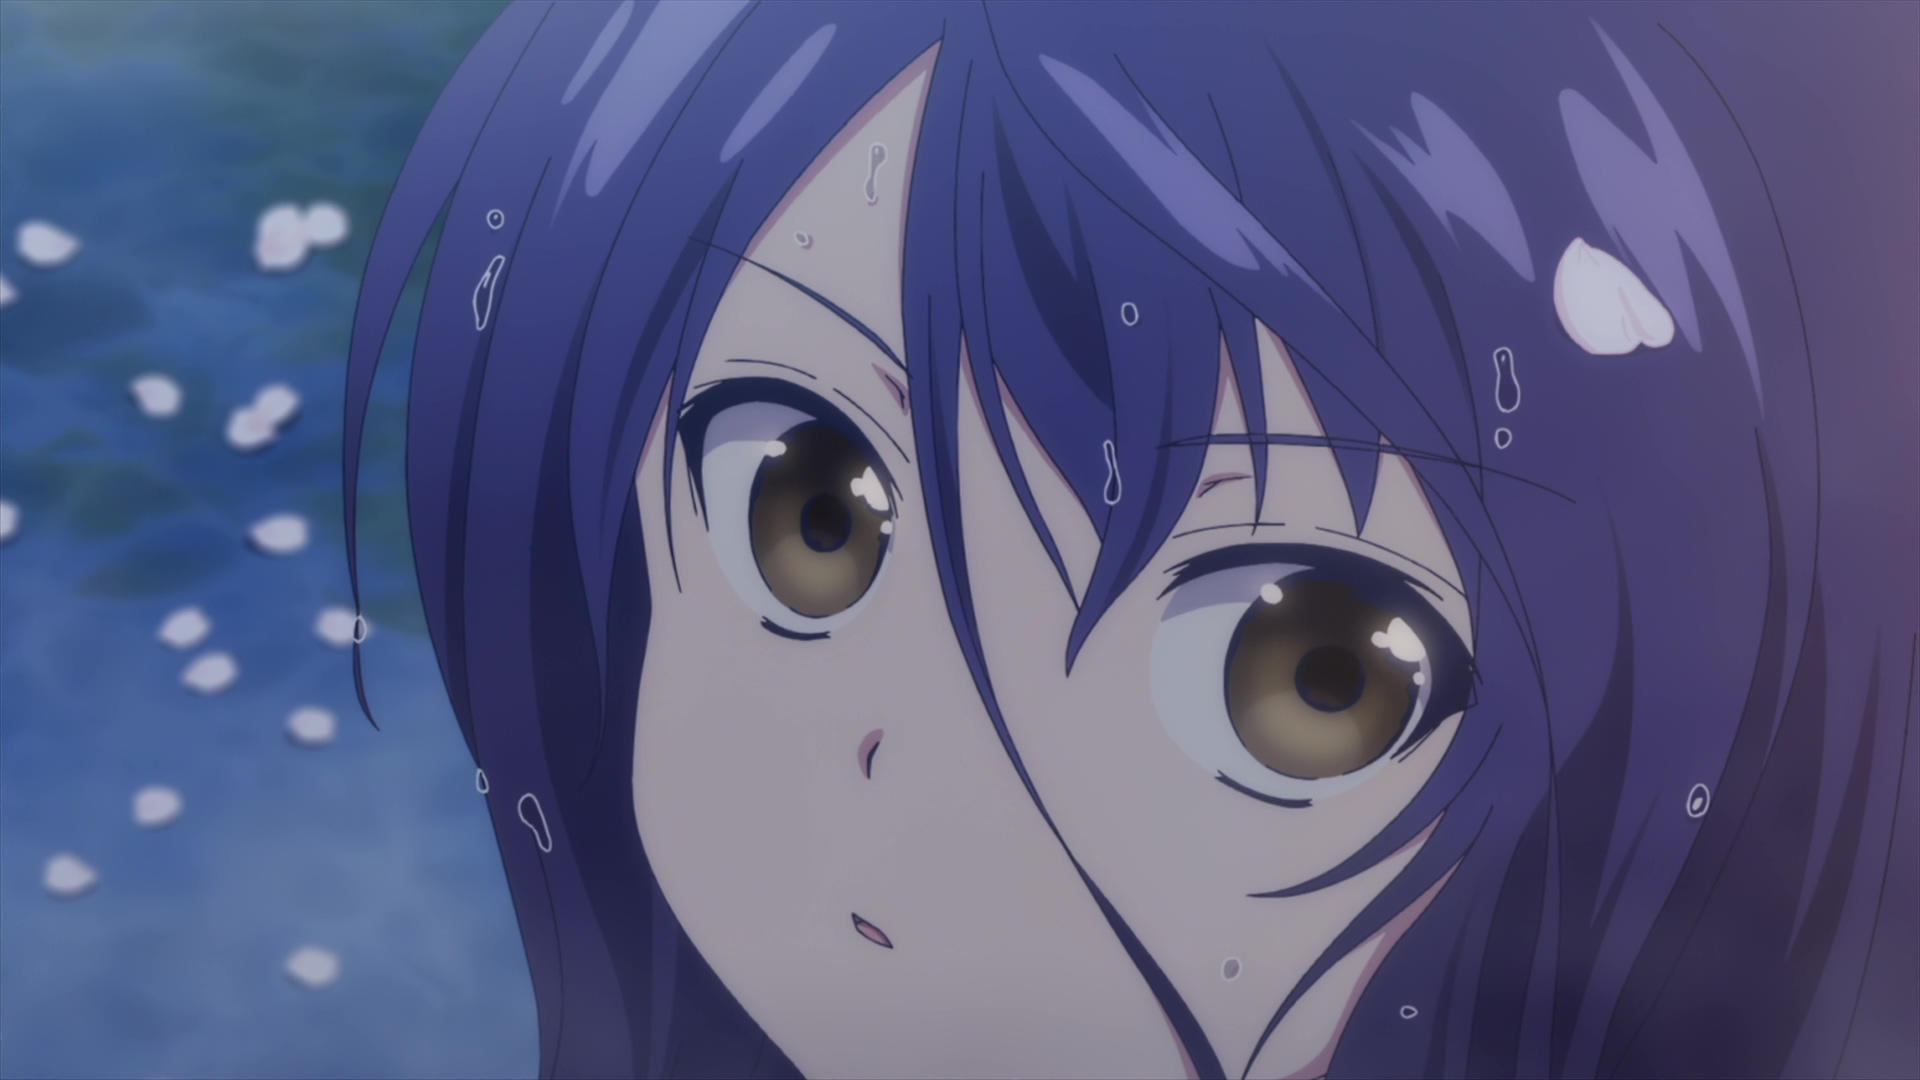皋: (340, 1, 1920, 1080)
